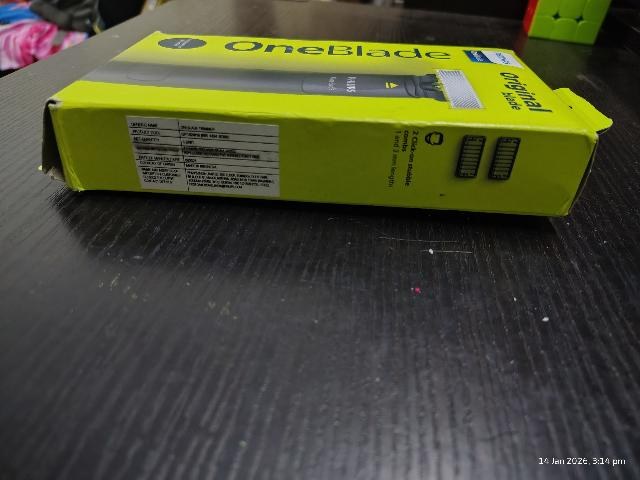phillips oneblade: (83, 40, 573, 224)
